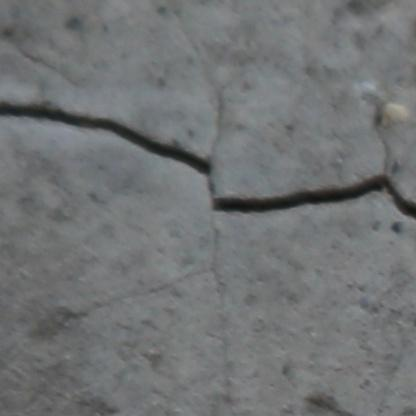Cracks: (211, 172, 416, 276), (0, 96, 219, 182)
